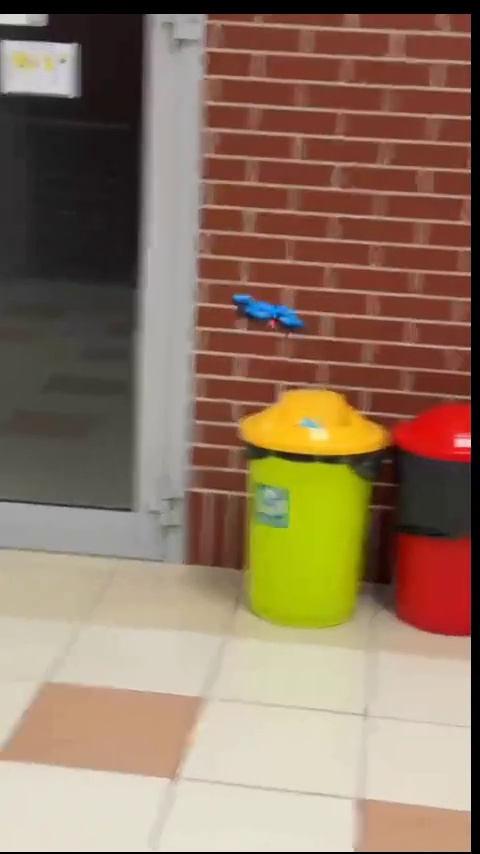drone: (230, 289, 304, 343)
